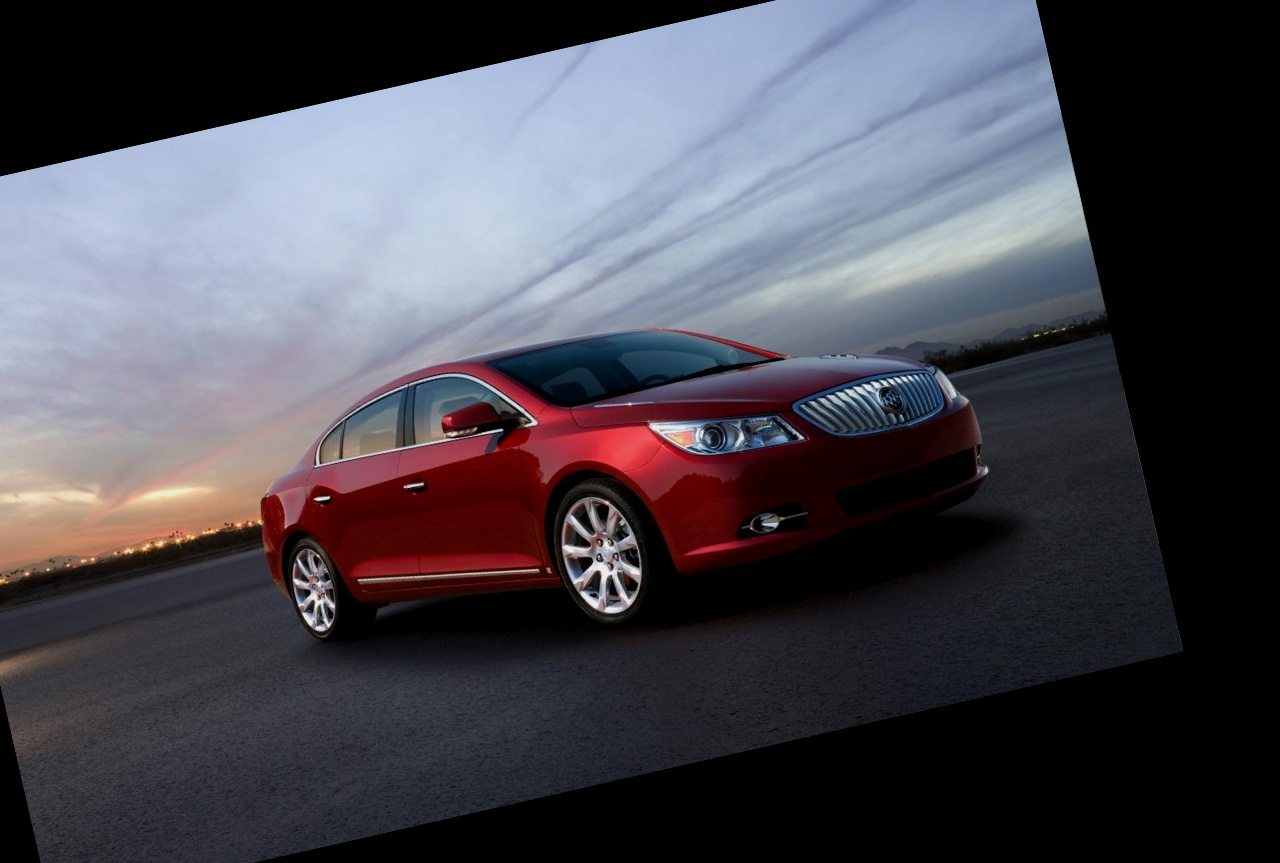car: (173, 217, 1049, 744)
